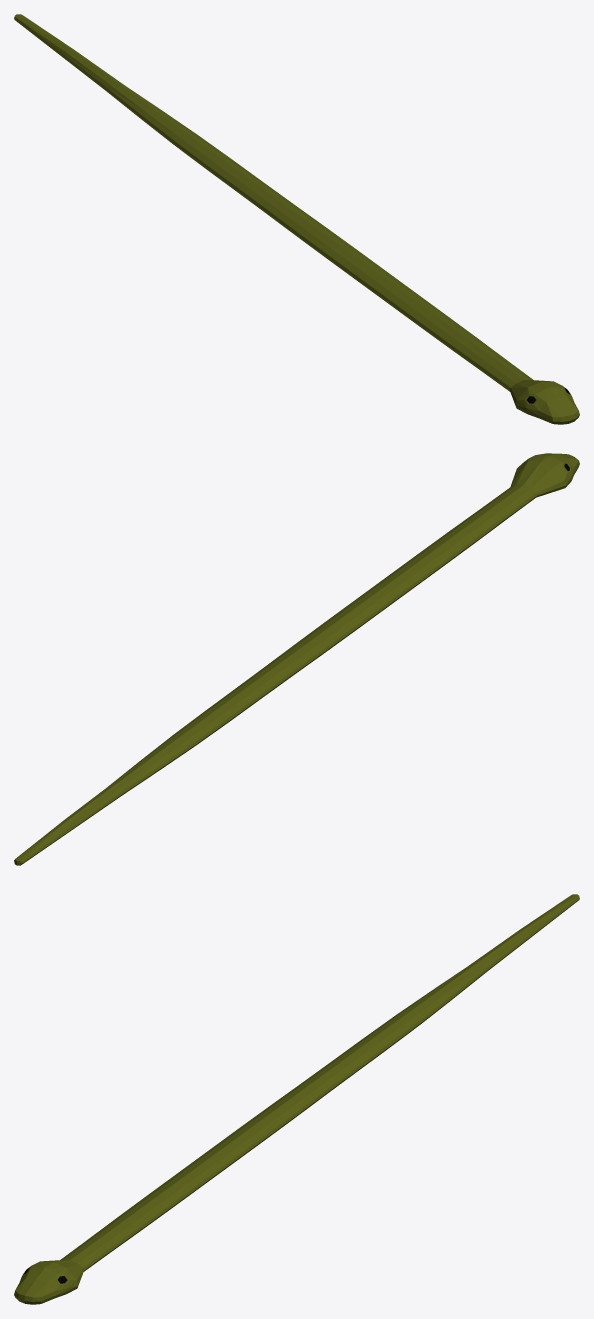
The model's file is Snake.fbx.
3 renders of one model, top to bottom at view 1: azimuth 30°, elevation 25°; view 2: azimuth 150°, elevation 25°; view 3: azimuth 330°, elevation 25°, orthographic.
Visible parts, largest first — view 1: TriangulatedSnake; view 2: TriangulatedSnake; view 3: TriangulatedSnake.
Part boxes in pixels (x1=…): TriangulatedSnake: x1=14, y1=14, x2=579, y2=424; TriangulatedSnake: x1=14, y1=453, x2=579, y2=865; TriangulatedSnake: x1=14, y1=894, x2=579, y2=1304.
Bounding box in the file's own units: 5.95 × 2.61 × 112.
